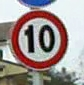limite 10: (9, 11, 67, 71)
